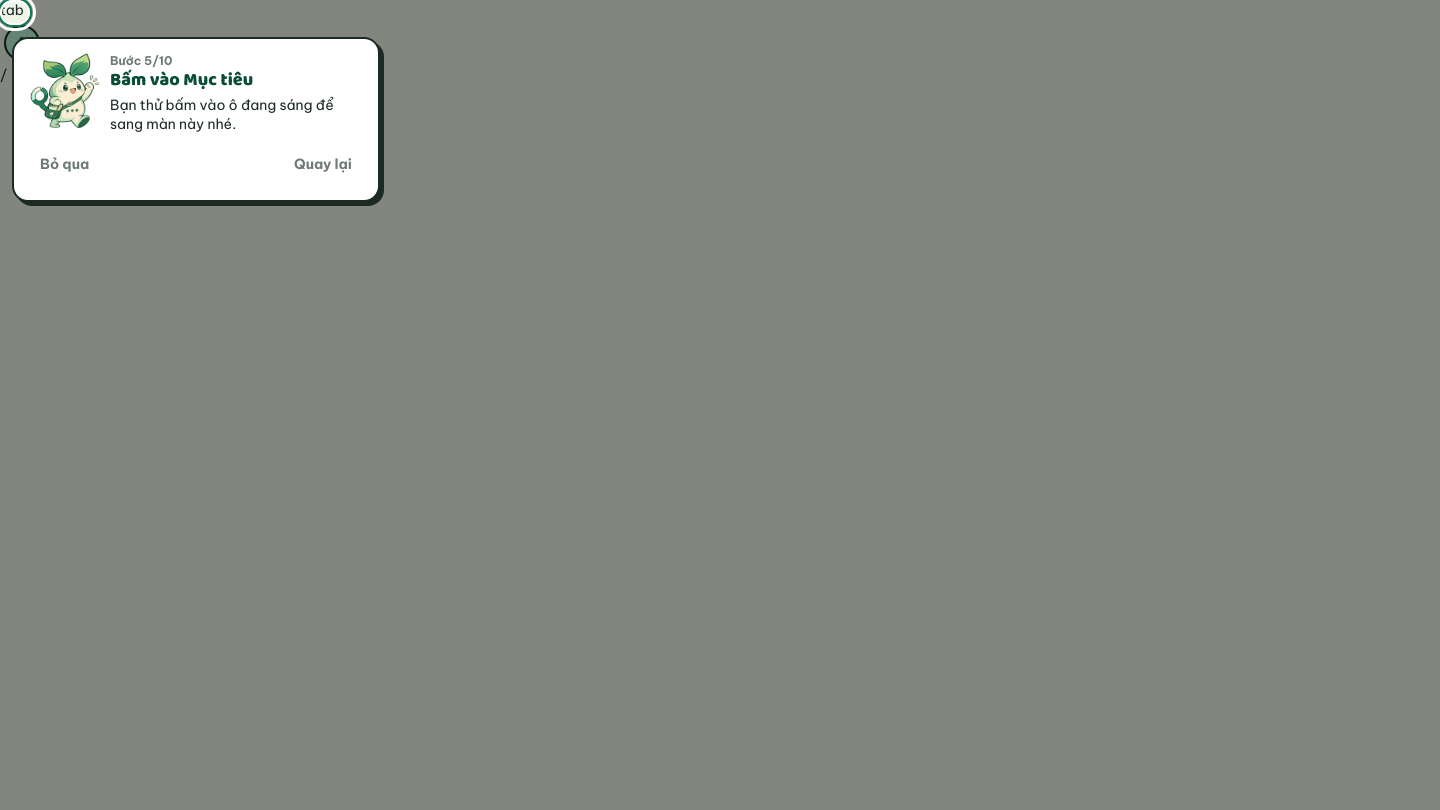
Test: TourHost › bấm vào tab đang được chỉ thì sang đúng trang
Click the button named "Bấm vào Mục tiêu" at (15, 12), box left=0, top=0, right=30, bottom=25
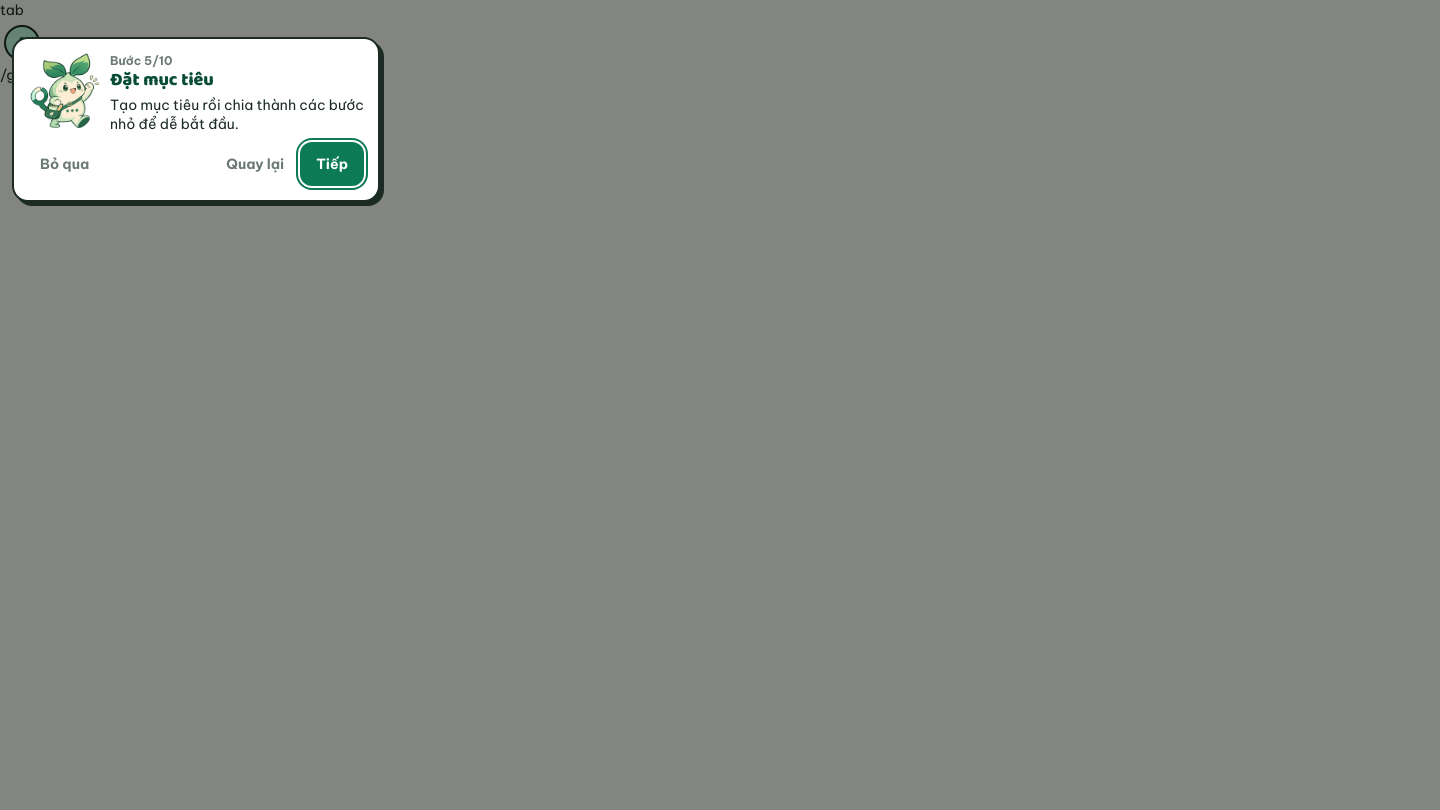
Expected: the text with test id "path" reads "/goals", left=0, top=66, right=44, bottom=84
Expected: the heading "Đặt mục tiêu" is shown, left=110, top=66, right=214, bottom=94
